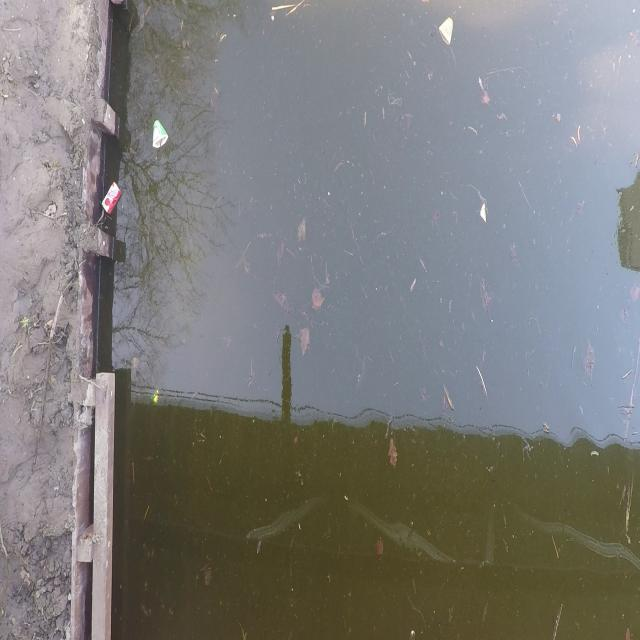Non plastique: (101, 178, 124, 217), (148, 116, 173, 150), (436, 15, 458, 50)
